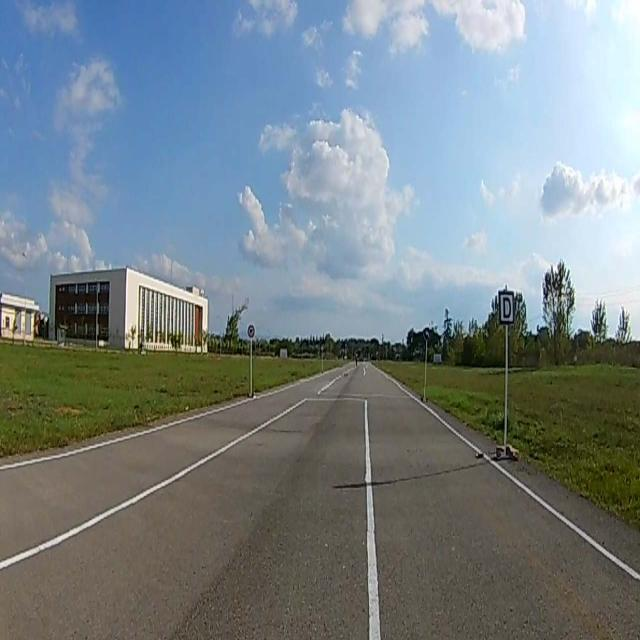durak: (498, 292, 514, 324)
